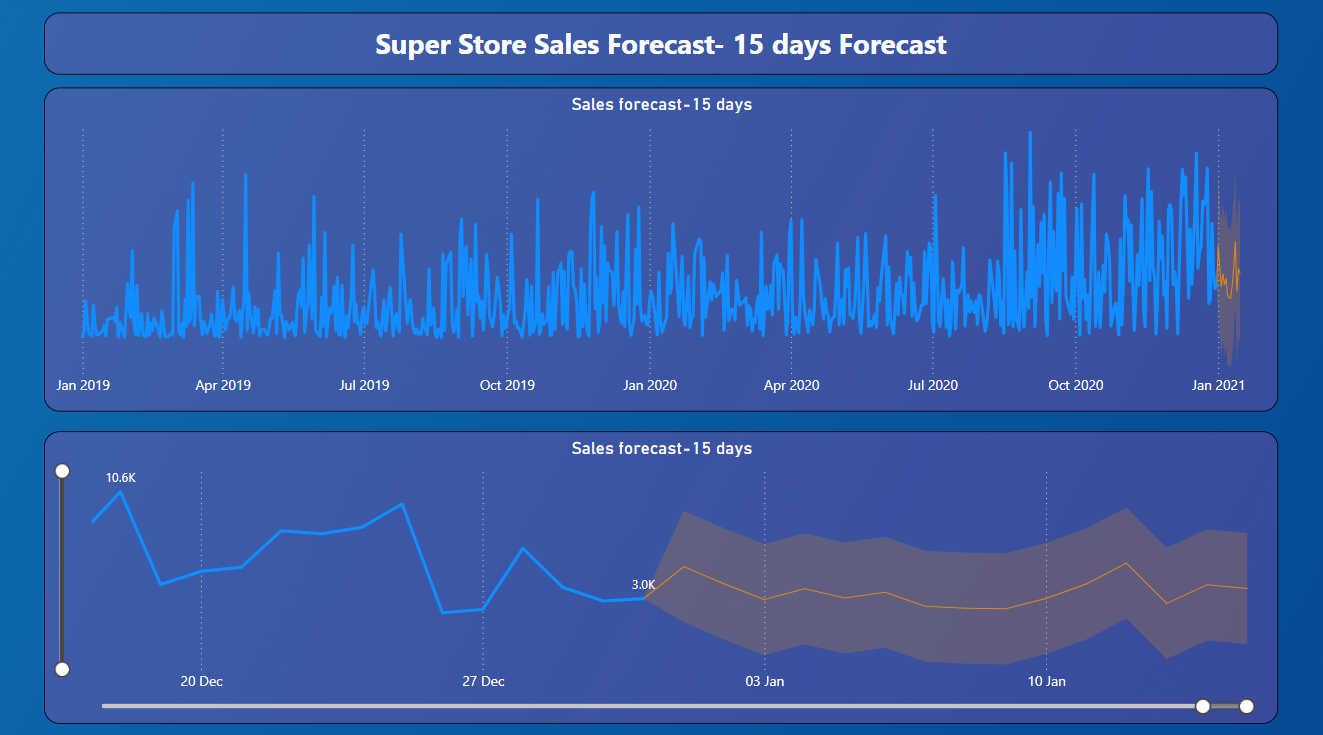

The dashboard page shown, as its layout file describes it:
{"tool":"powerbi","page":{"name":"Sales forecast","canvas":[1280,720],"ordinal":1},"visuals":[{"type":"lineChart","title":"Sales forecast-15 days","fields":{"Y":["Sum(Sales_forecast.Total Sales)"],"Category":["Sales_forecast.Order Date"]},"box":[43.9,89.2,1191.1,312.9],"z":0},{"type":"lineChart","title":"Sales forecast-15 days","fields":{"Y":["Sum(Sales_forecast.Total Sales)"],"Category":["Sales_forecast.Order Date"]},"box":[43.9,421.3,1191.1,282.7],"z":1000},{"type":"textbox","box":[43.9,16.5,1191.1,60.4],"z":2000}]}

Visuals, with their boxes in screenshot pixels (x1, y1, x2, y2), scaled from the page's 1280x720 canvas onto the 1323x735 screenshot:
"Sales forecast-15 days" lineChart: rect(45, 91, 1276, 410)
"Sales forecast-15 days" lineChart: rect(45, 430, 1276, 719)
textbox: rect(45, 17, 1276, 79)
